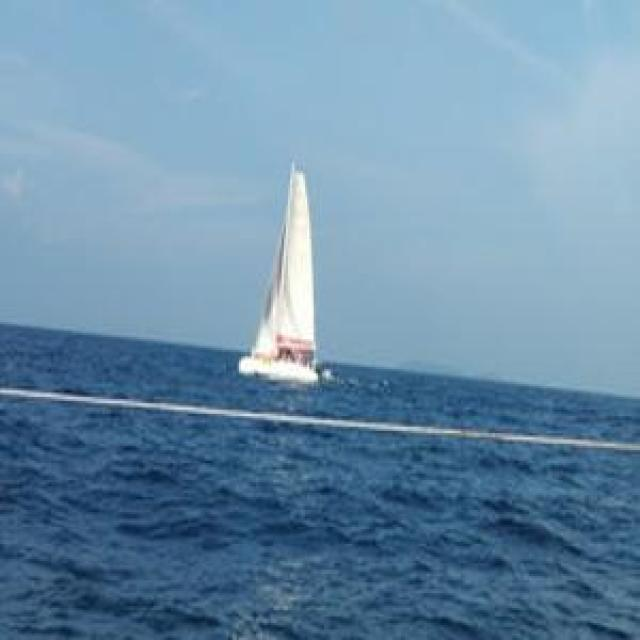sailboat: (218, 148, 348, 379)
